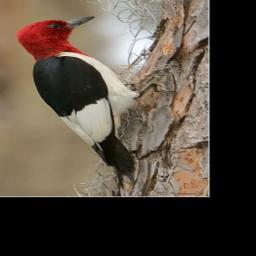Woodpecker: (14, 13, 178, 186)
